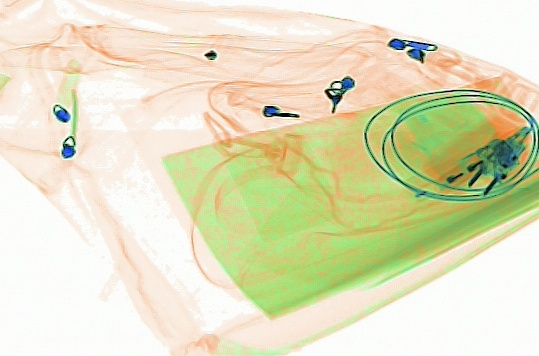lighter: (412, 133, 523, 211)
